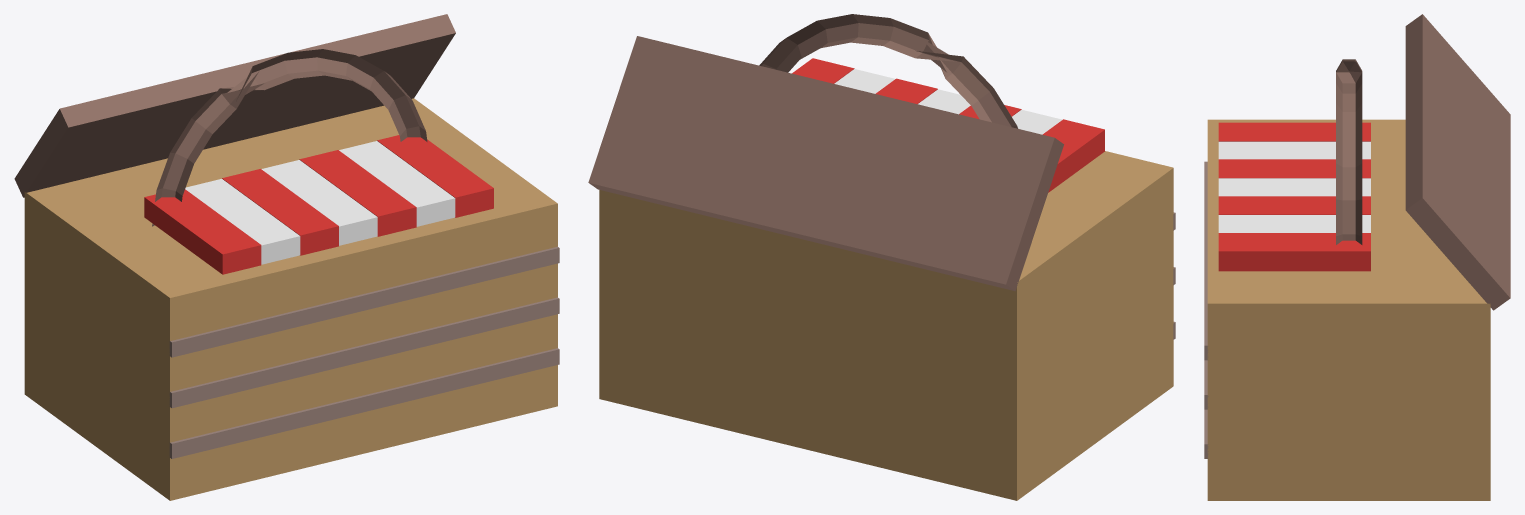
File: picknickkorg.glb
The picture shows the model from 3 angles, left to right: view 1: azimuth 30°, elevation 25°; view 2: azimuth 150°, elevation 25°; view 3: azimuth 270°, elevation 25°; orthographic projection. The views are drawn at different scales.
Visible parts, largest first — view 1: picknickkorg; view 2: picknickkorg; view 3: picknickkorg.
Boxes of the visible parts, left/top/right/bottom form: picknickkorg: left=14, top=14, right=559, bottom=500; picknickkorg: left=588, top=14, right=1175, bottom=500; picknickkorg: left=1204, top=14, right=1510, bottom=500.
Bounding box in the file's own units: 0.4 × 0.3404 × 0.2812.
